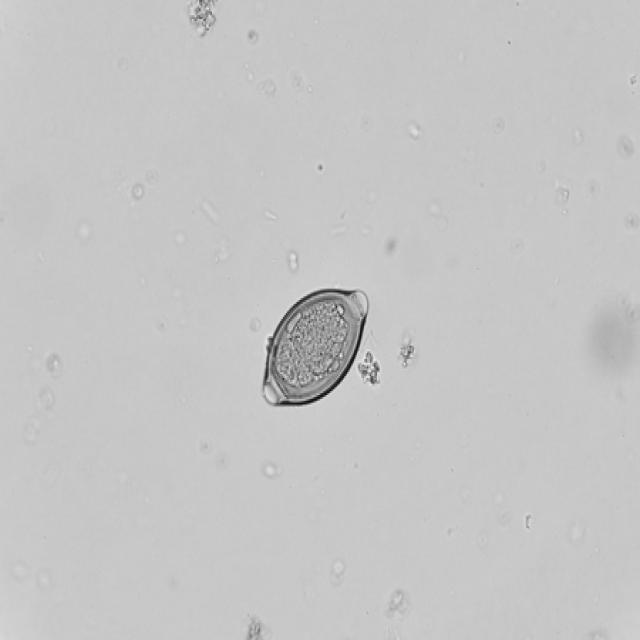Trichuris Trichiura: (256, 281, 371, 414)
